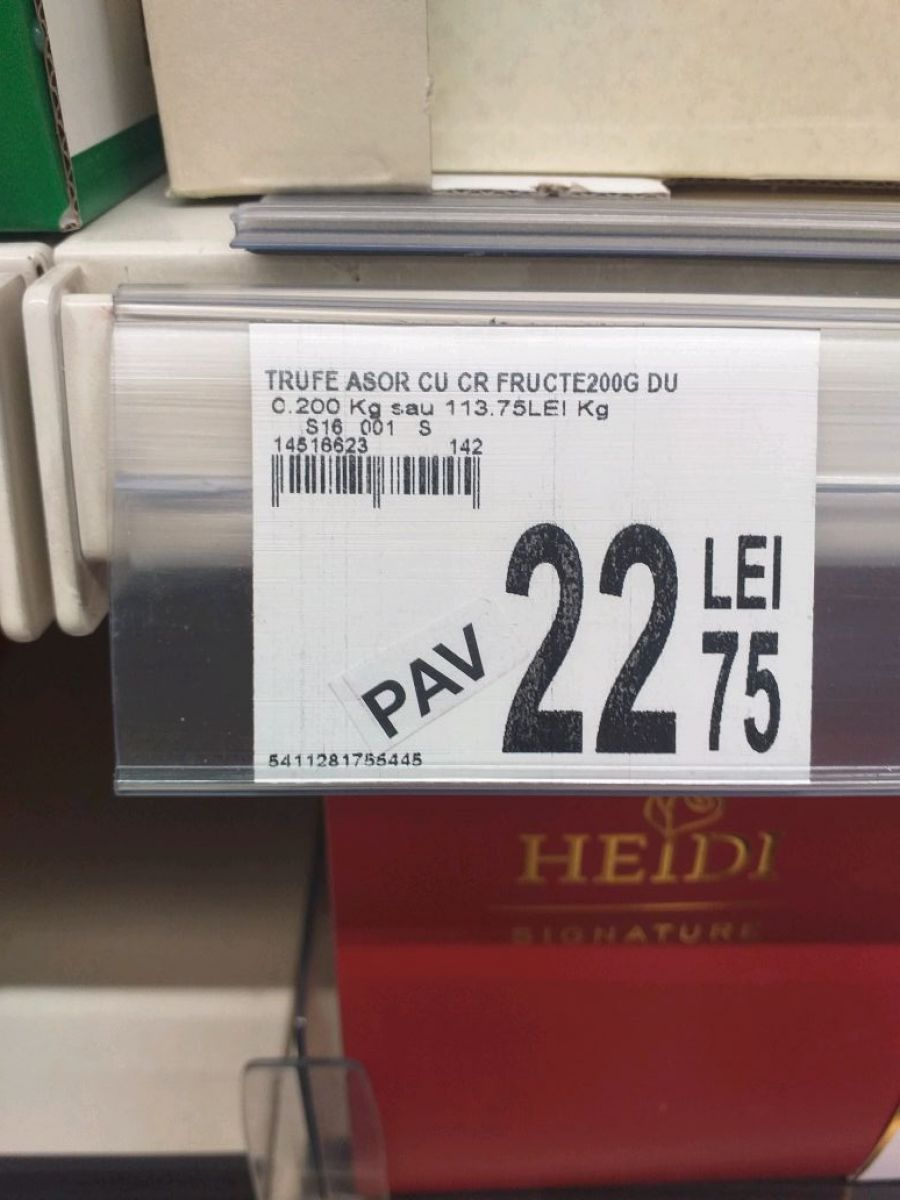price_bani: (686, 622, 797, 766)
price_lei: (492, 515, 687, 770)
price_tag: (218, 303, 867, 805)
product_id: (264, 748, 431, 772)
product_name: (259, 363, 692, 397)
